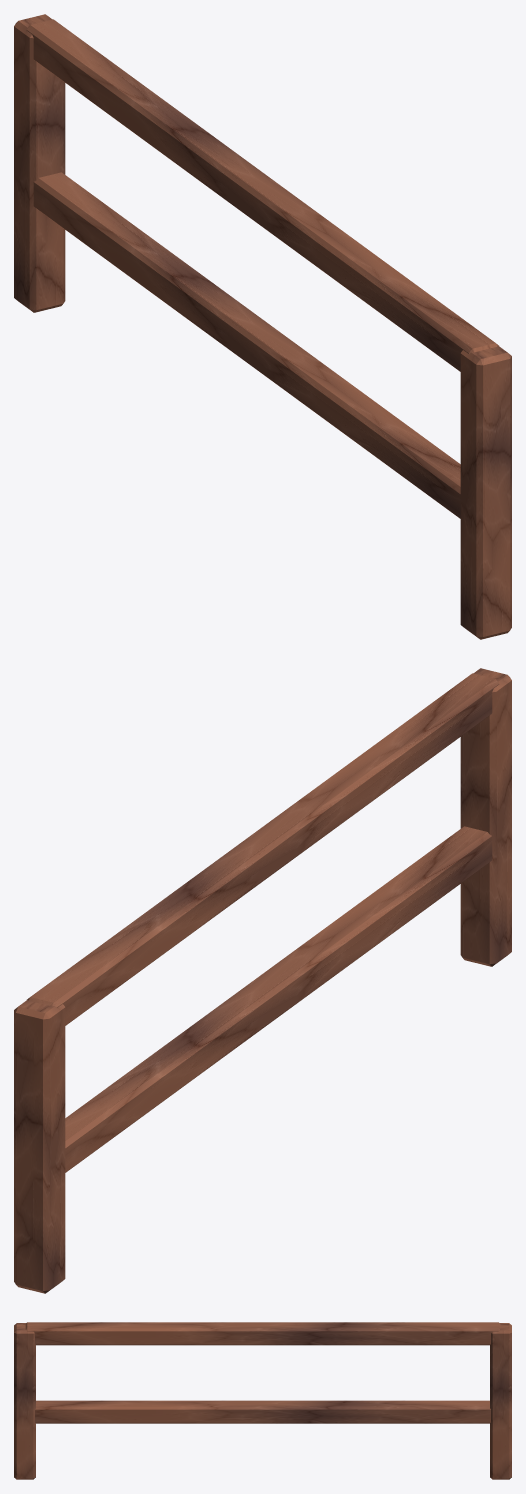
Rendered from Railing_Wedge30.glb.
3 renders of one model, top to bottom at view 1: azimuth 30°, elevation 25°; view 2: azimuth 150°, elevation 25°; view 3: azimuth 270°, elevation 25°, orthographic. The views are drawn at different scales.
Parts seen in each view (by area): view 1: Railing_Wedge30__立方体.003, Railing_Wedge30__立方体.002, Railing_Wedge30__立方体, Railing_Wedge30__立方体.001; view 2: Railing_Wedge30__立方体.003, Railing_Wedge30__立方体.002, Railing_Wedge30__立方体.001, Railing_Wedge30__立方体; view 3: Railing_Wedge30__立方体.003, Railing_Wedge30__立方体.002, Railing_Wedge30__立方体, Railing_Wedge30__立方体.001.
Boxes of the visible parts, bbox=[...] form: Railing_Wedge30__立方体.003: bbox=[26, 19, 498, 371]; Railing_Wedge30__立方体.002: bbox=[33, 172, 460, 518]; Railing_Wedge30__立方体: bbox=[460, 345, 511, 639]; Railing_Wedge30__立方体.001: bbox=[14, 14, 65, 312]; Railing_Wedge30__立方体.003: bbox=[27, 673, 499, 1025]; Railing_Wedge30__立方体.002: bbox=[65, 826, 492, 1172]; Railing_Wedge30__立方体.001: bbox=[14, 999, 65, 1293]; Railing_Wedge30__立方体: bbox=[460, 668, 511, 966]; Railing_Wedge30__立方体.003: bbox=[25, 1322, 500, 1345]; Railing_Wedge30__立方体.002: bbox=[35, 1400, 490, 1423]; Railing_Wedge30__立方体: bbox=[14, 1323, 35, 1479]; Railing_Wedge30__立方体.001: bbox=[490, 1323, 511, 1479].
Size of the model in its own units: 0.14 by 1.06 by 3.17.
1 material, 1 textured.
